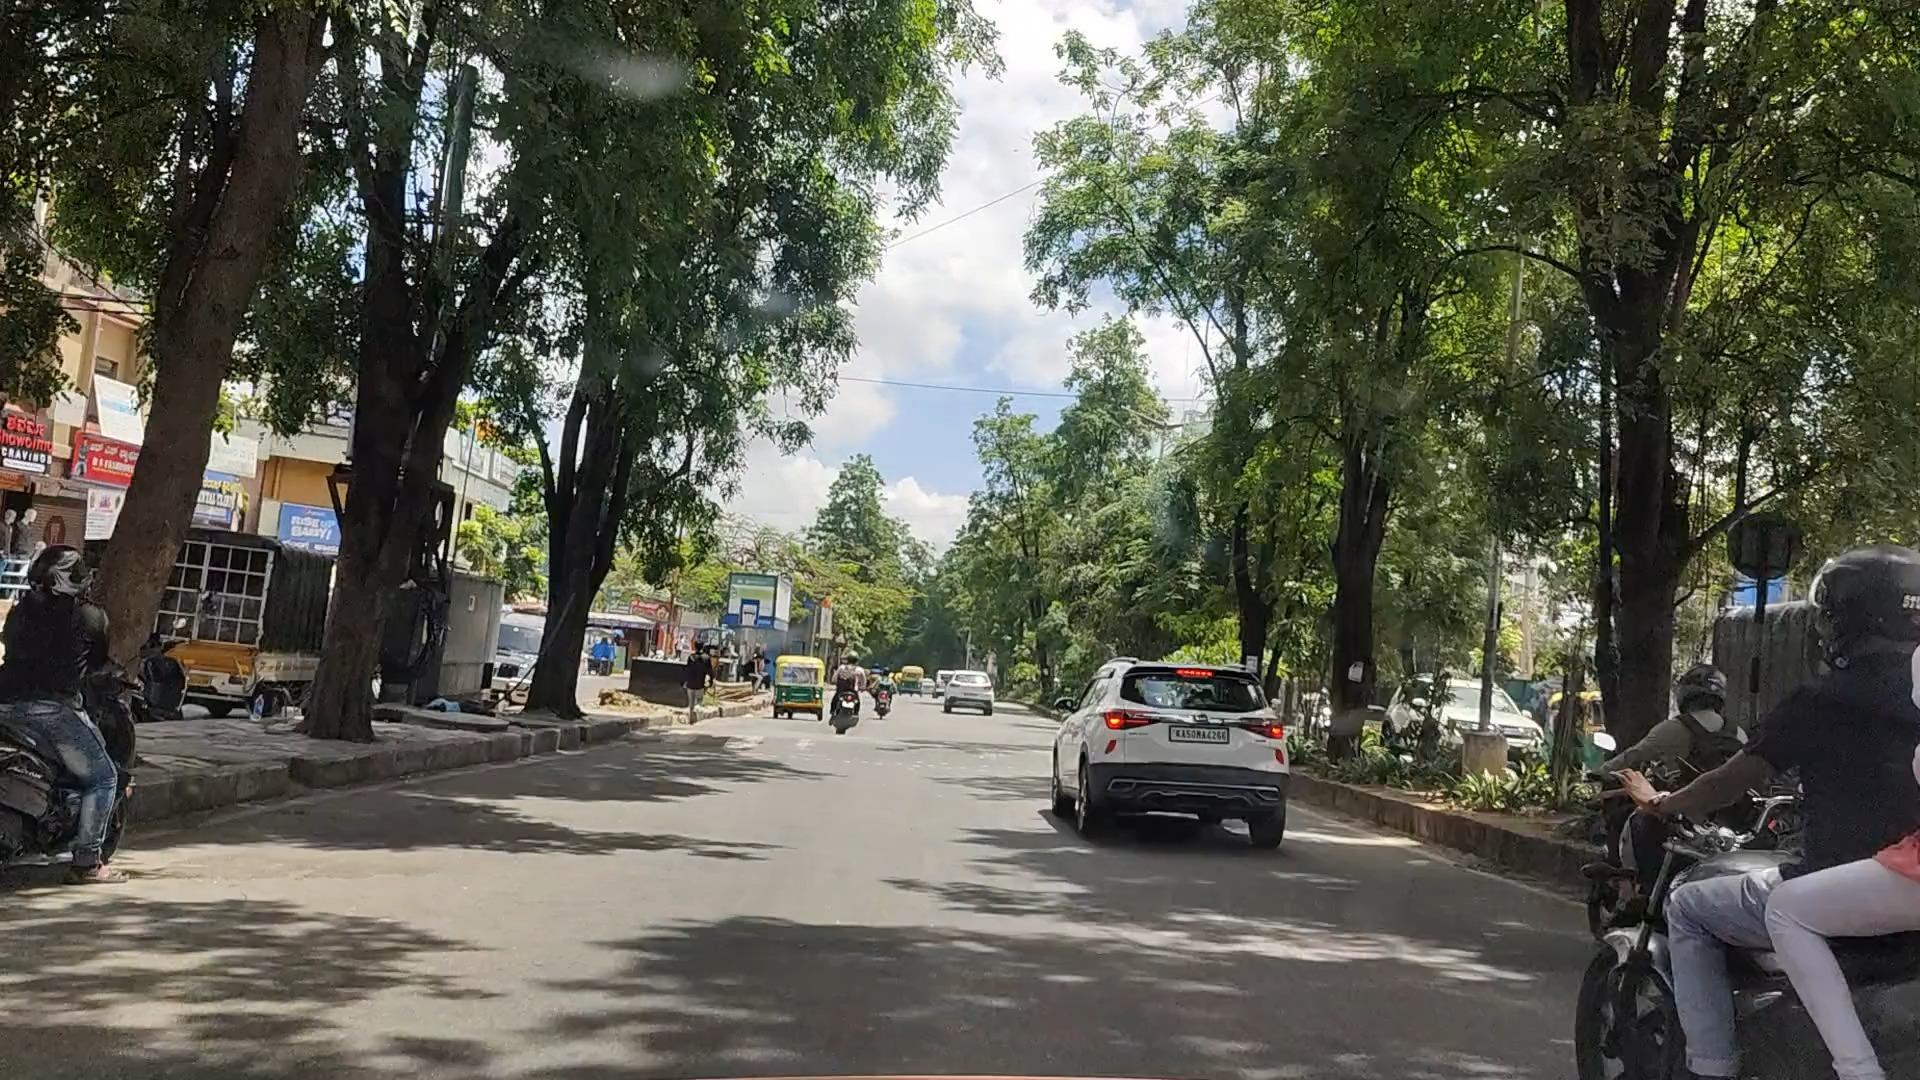LMV: (1056, 661, 1287, 848)
SpeedBump: (665, 721, 1030, 760)
